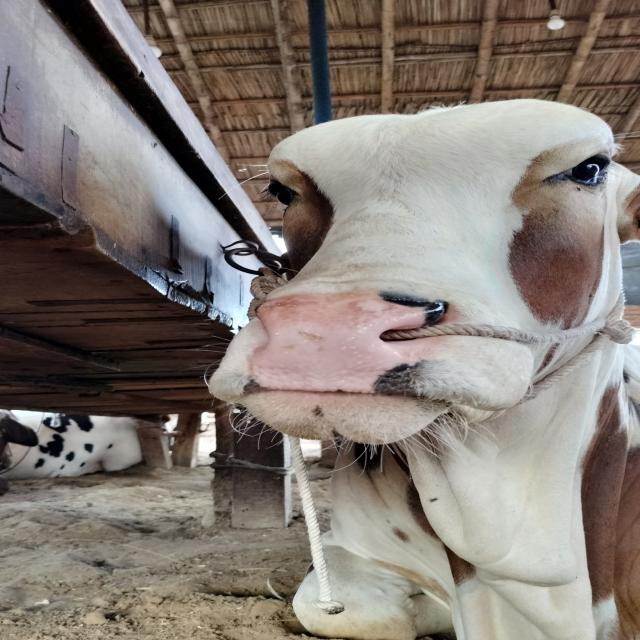muzzles: (246, 289, 471, 401)
